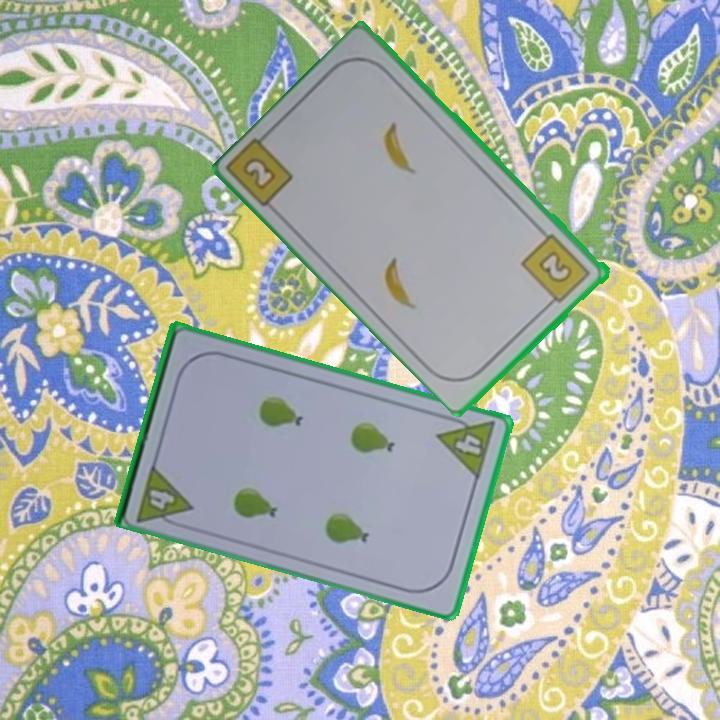2b: (518, 230, 594, 310), (239, 153, 280, 193)
4p: (433, 410, 498, 482), (133, 459, 195, 532)
